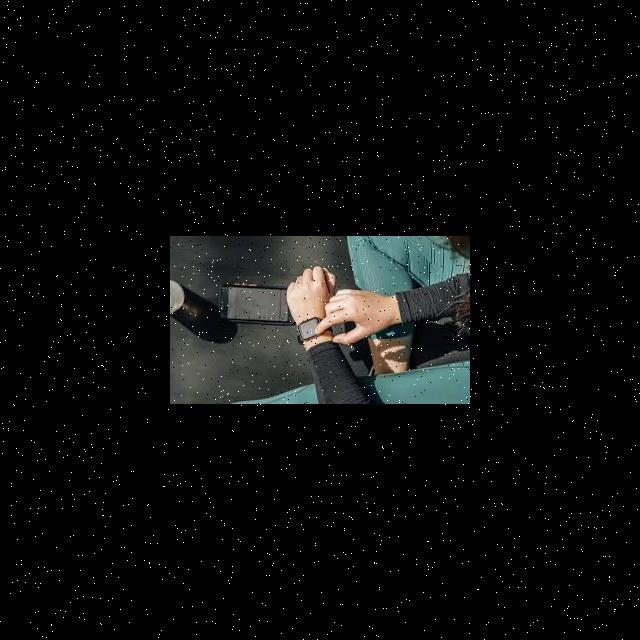smart phone: (210, 273, 297, 335)
watch: (294, 308, 348, 358)
